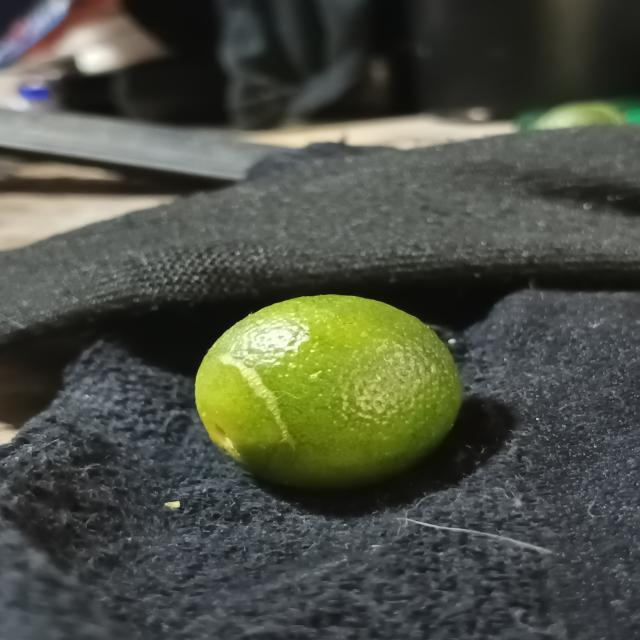thrips: (188, 298, 474, 494)
